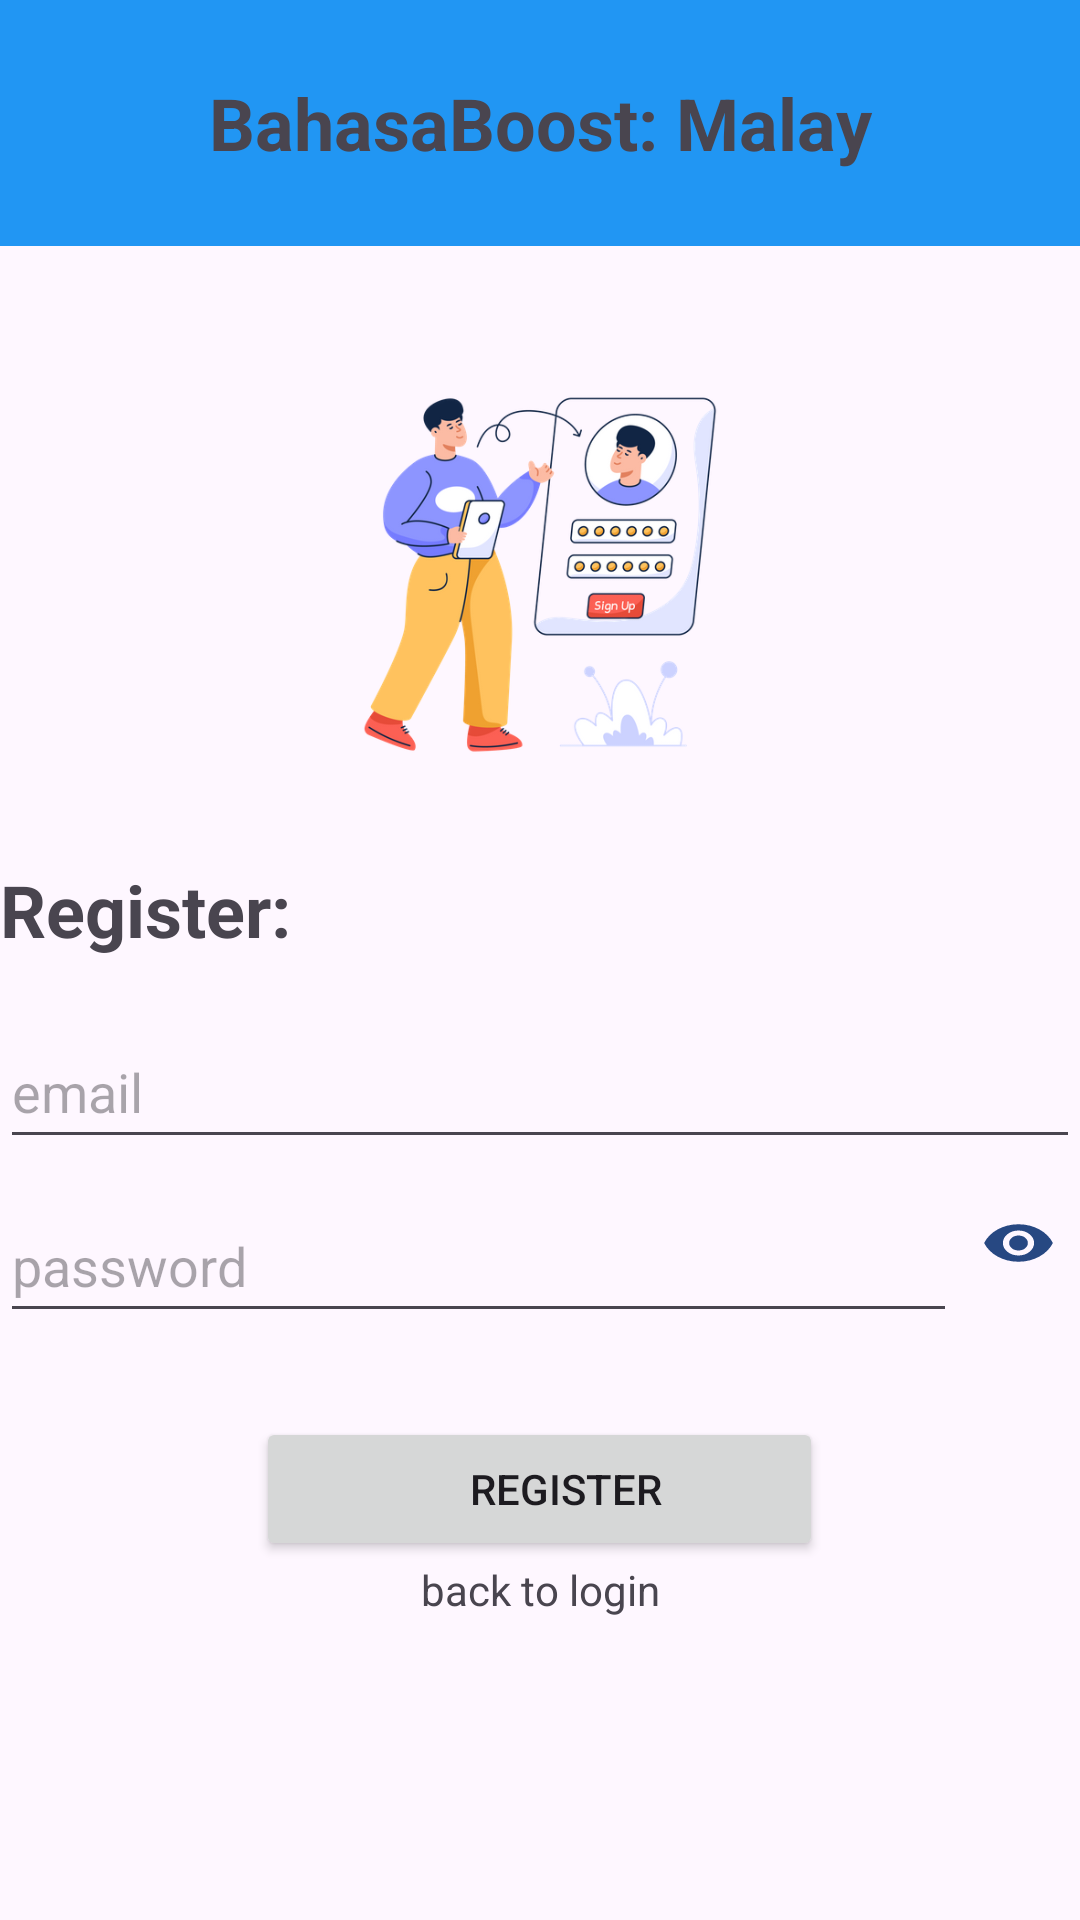

Where icons sit on this 1080 x 1920 app screen, as (x1, y1, x2, y2):
remove eye: (984, 1224, 1053, 1262)
